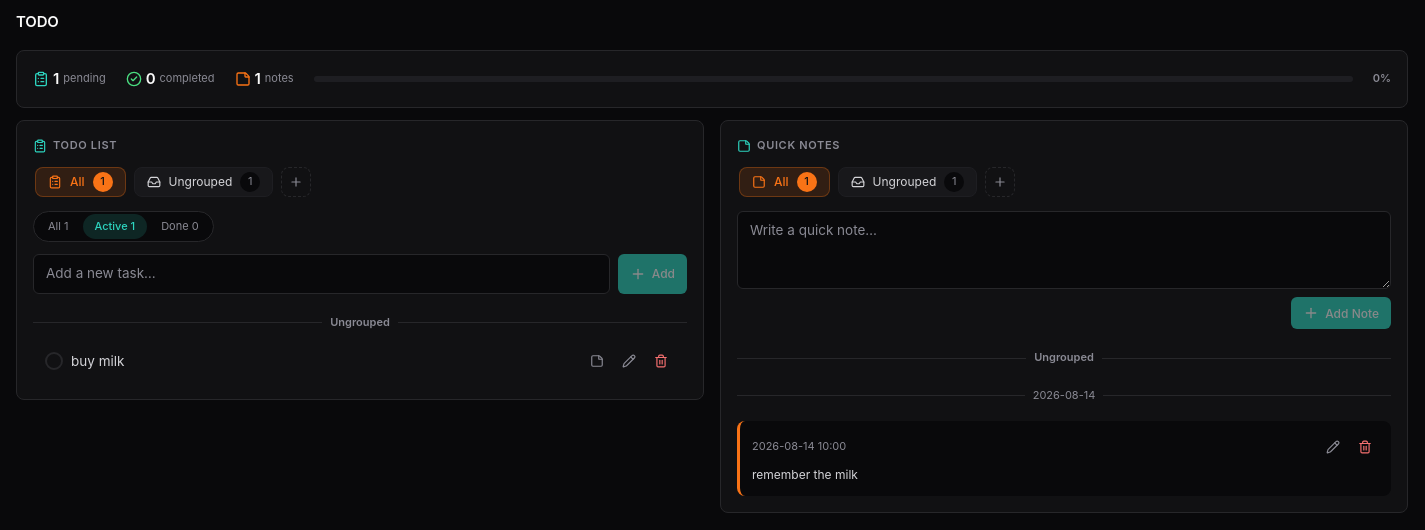
Test: TodoPage › adds a todo item via input and add button
Expected: the text "buy milk" is shown, [71, 353, 124, 369]
Type "new task" into the field with placeholder "Add a new task…" at (321, 274), box [33, 254, 610, 294]
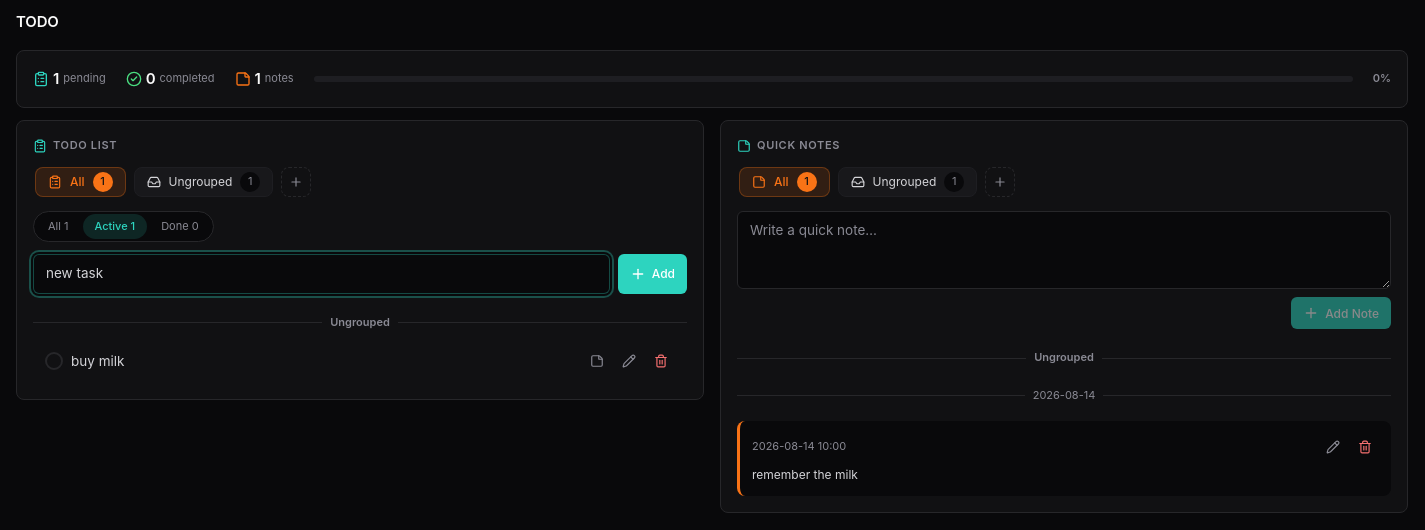
Click the button "Add" at (652, 274), box [618, 254, 687, 294]
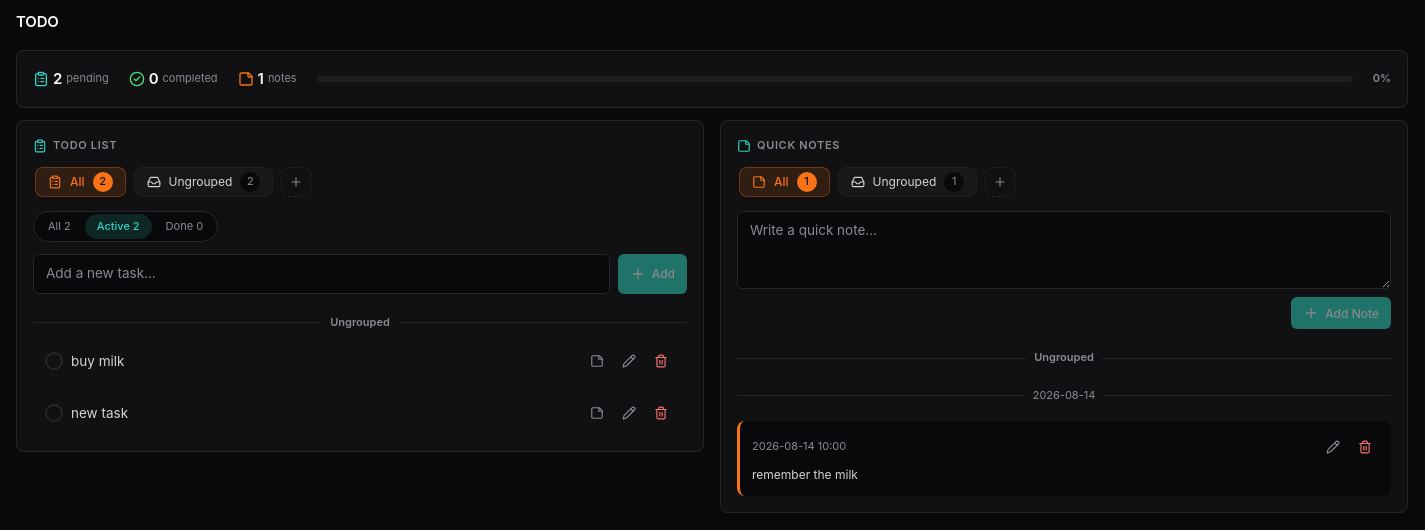
Result: the text "new task" is shown at [71, 405, 128, 421]
Result: the field with placeholder "Add a new task…" is empty at [33, 254, 610, 294]
